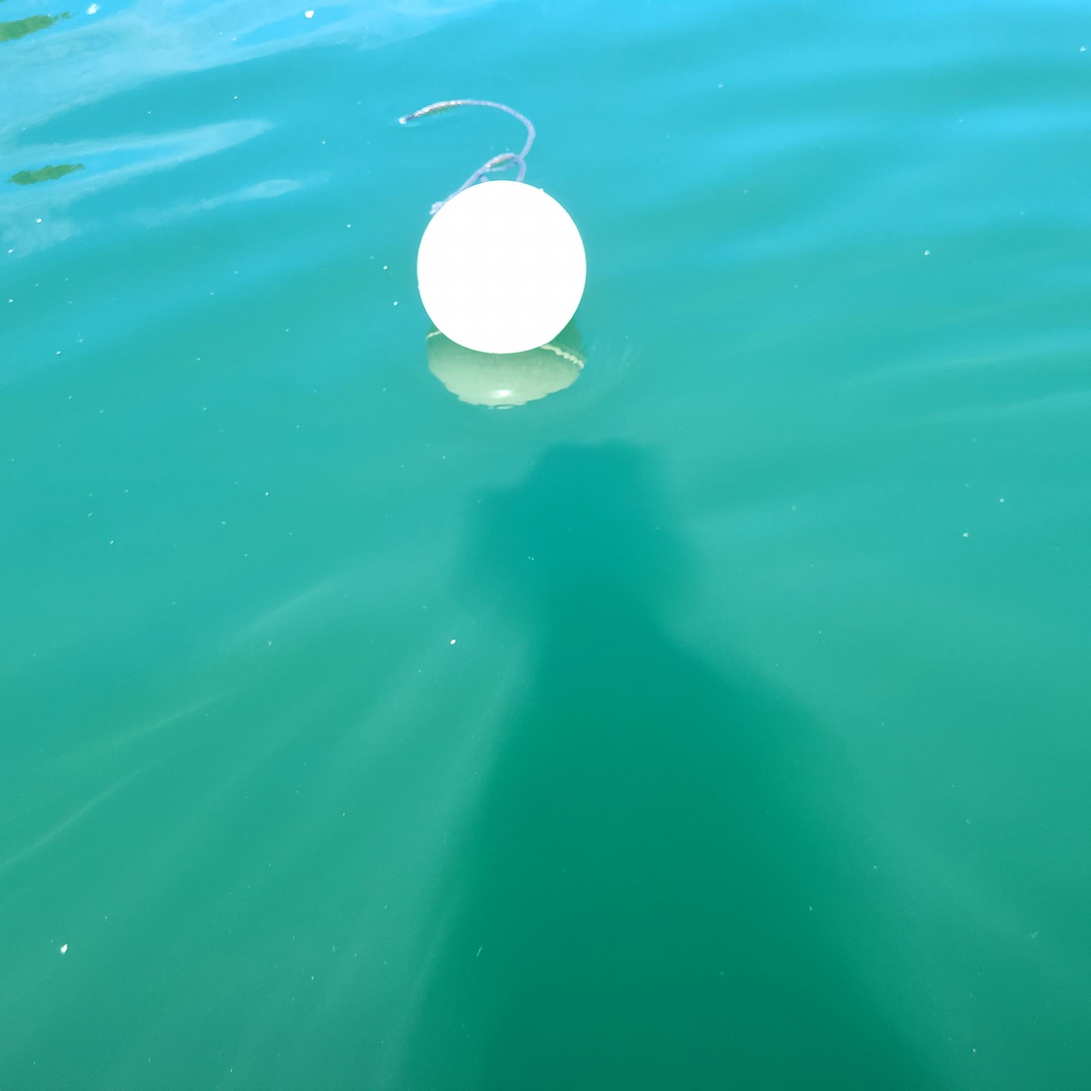sampah_terapung: (417, 181, 587, 355), (399, 100, 536, 215)
